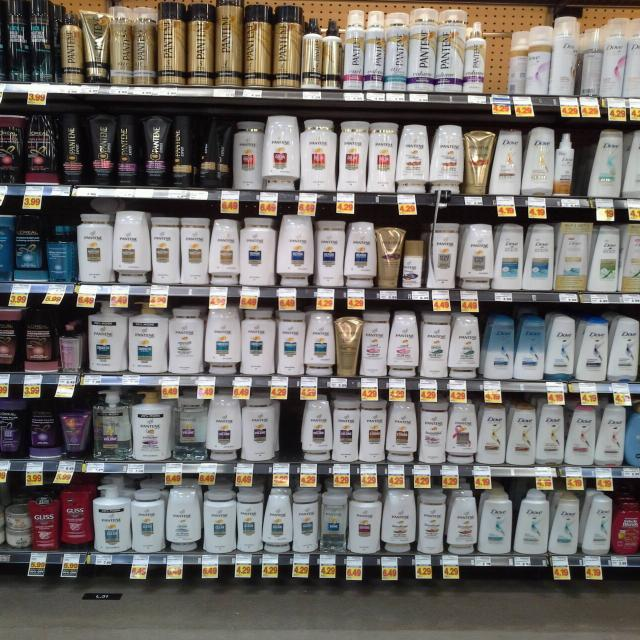unorganised: (509, 22, 640, 98), (376, 223, 425, 292), (191, 122, 235, 187), (332, 311, 366, 380), (174, 395, 207, 458), (235, 121, 262, 189), (322, 18, 343, 92), (553, 128, 576, 194)
